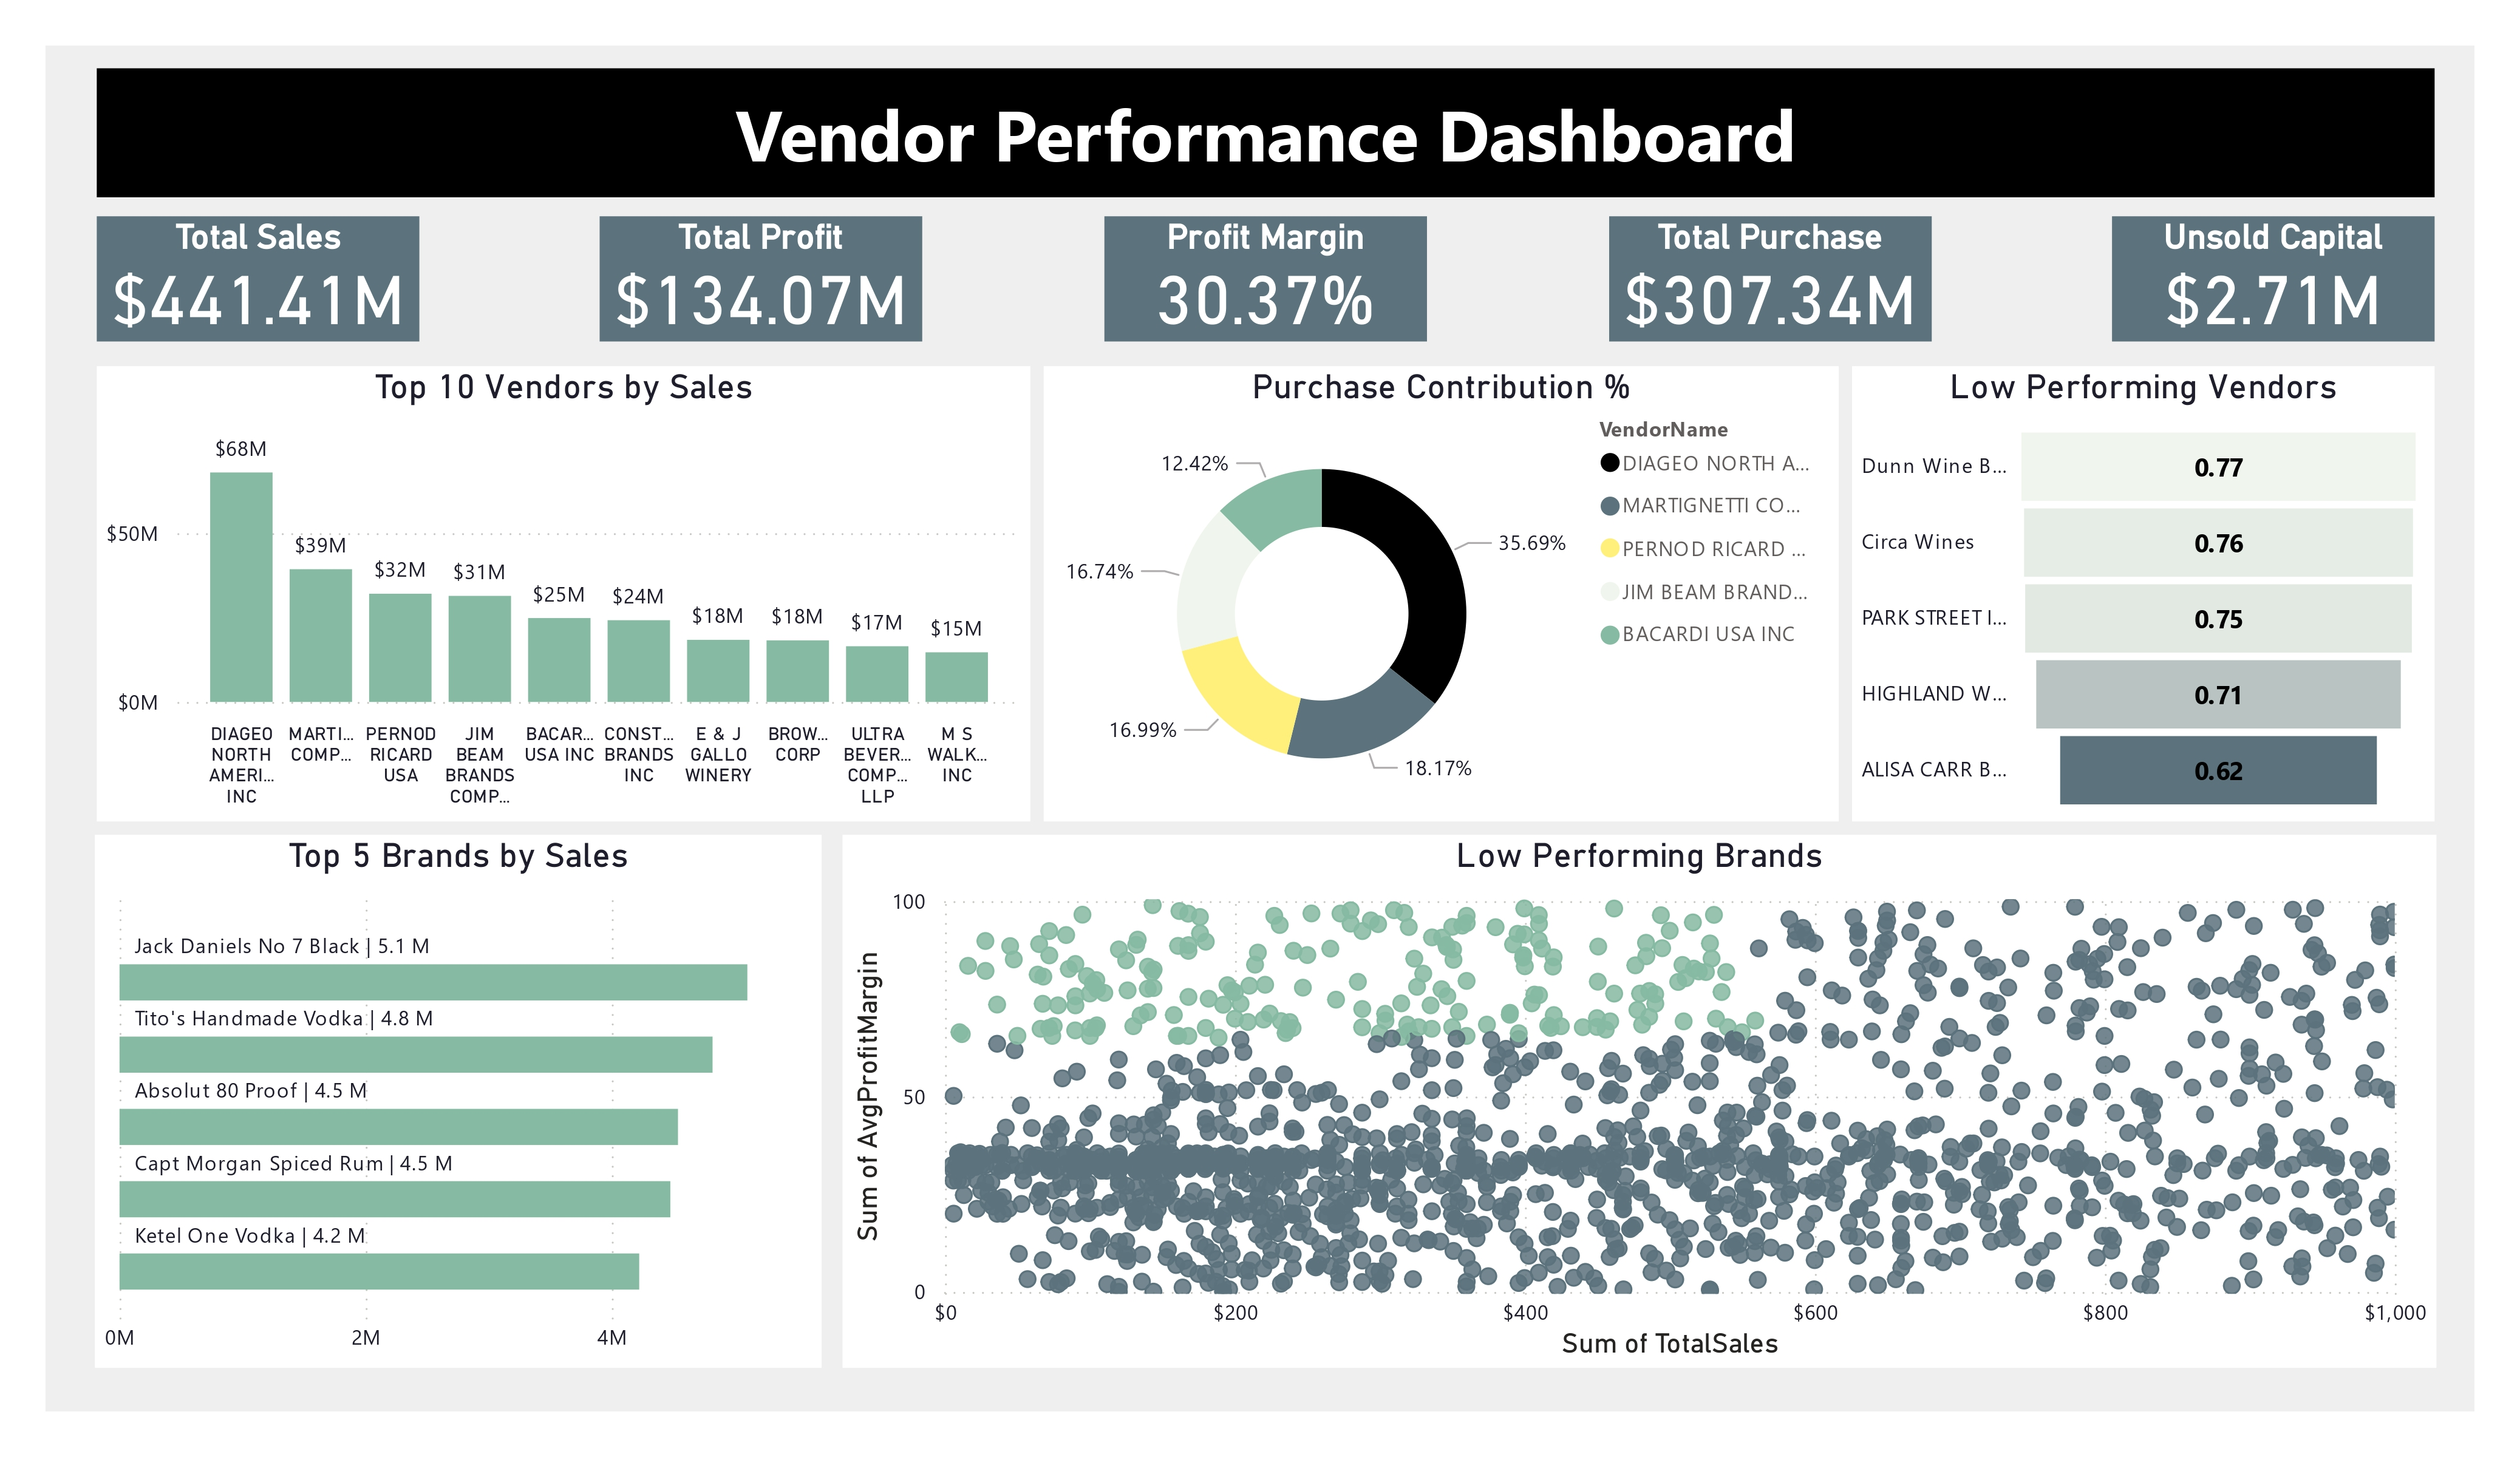

The dashboard page shown, as its layout file describes it:
{"tool":"powerbi","page":{"name":"Page 1","canvas":[1280,720],"ordinal":0},"visuals":[{"type":"card","title":"Total Sales","fields":{"Values":["Measures Table.Total Sales"]},"box":[26.7,90,170,65.6],"z":0},{"type":"card","title":"Total Profit","fields":{"Values":["Measures Table.Total Profit"]},"box":[292.3,90,170,65.6],"z":1000},{"type":"card","title":"Profit Margin","fields":{"Values":["Measures Table.Overall Profit Margin"]},"box":[558,90,170,65.6],"z":2000},{"type":"columnChart","title":"Top 10 Vendors by Sales","fields":{"Category":["vendor_summary_output.VendorName"],"Y":["Measures Table.Total Sales"]},"box":[27,169,492,240],"z":4000},{"type":"card","title":"Total Purchase","fields":{"Values":["Measures Table.Total Purchase"]},"box":[823.7,90,170,65.6],"z":5000},{"type":"card","title":"Unsold Capital","fields":{"Values":["Measures Table.Unsold Capital"]},"box":[1089.3,90.5,169.7,65.3],"z":6000},{"type":"shape","box":[26.7,12.2,1232.2,67.8],"z":7000},{"type":"textbox","box":[26.7,15.6,1232.2,60],"z":8000},{"type":"pieChart","title":"Purchase Contribution %","fields":{"Category":["PurchaseContribution.VendorName"],"Y":["PurchaseContribution.PurchaseContribution%"]},"box":[526,169,419,240],"z":9000},{"type":"clusteredBarChart","title":"Top 5 Brands by Sales","fields":{"Category":["vendor_summary_output.Description"],"Y":["Design Measures.Labels Placeholders","Measures Table.Total Sales"]},"box":[26.4,416.4,382.6,280.1],"z":10000},{"type":"funnel","title":"Low Performing Vendors","fields":{"Category":["LowTurnoverVendor.VendorName"],"Y":["LowTurnoverVendor.AvgStockTurnover"]},"box":[952,169,307,240],"z":11000},{"type":"scatterChart","title":"Low Performing Brands","fields":{"Category":["BrandPerformance.Description"],"X":["BrandPerformance.TotalSales"],"Y":["BrandPerformance.AvgProfitMargin"]},"box":[419.6,416.4,840.3,280.1],"z":12000}]}

Visuals, with their boxes on the page's 1280x720 design canvas (x1, y1, x2, y2). These are canvas units, not pixel positions in the 2520x1457 screenshot, which may show the page scaled, cropped or inside an application window:
"Total Sales" card: 27, 90, 197, 156
"Total Profit" card: 292, 90, 462, 156
"Profit Margin" card: 558, 90, 728, 156
"Top 10 Vendors by Sales" columnChart: 27, 169, 519, 409
"Total Purchase" card: 824, 90, 994, 156
"Unsold Capital" card: 1089, 90, 1259, 156
shape: 27, 12, 1259, 80
textbox: 27, 16, 1259, 76
"Purchase Contribution %" pieChart: 526, 169, 945, 409
"Top 5 Brands by Sales" clusteredBarChart: 26, 416, 409, 696
"Low Performing Vendors" funnel: 952, 169, 1259, 409
"Low Performing Brands" scatterChart: 420, 416, 1260, 696
